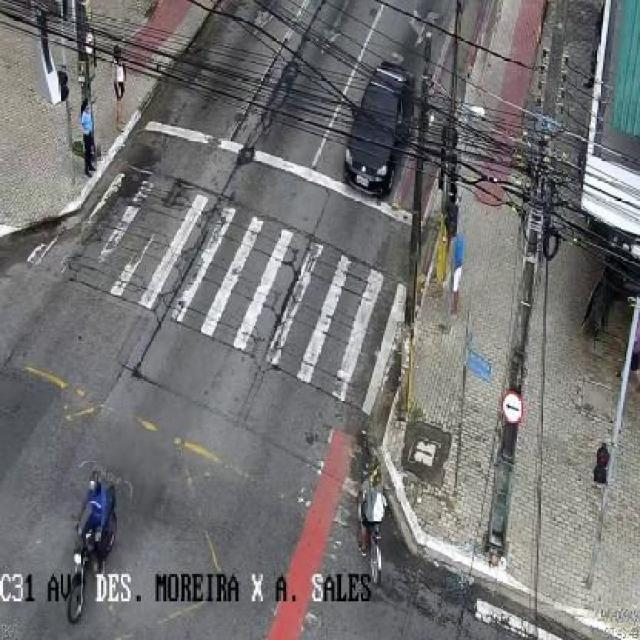Car: (341, 59, 416, 198)
Cycle: (64, 502, 120, 625)
